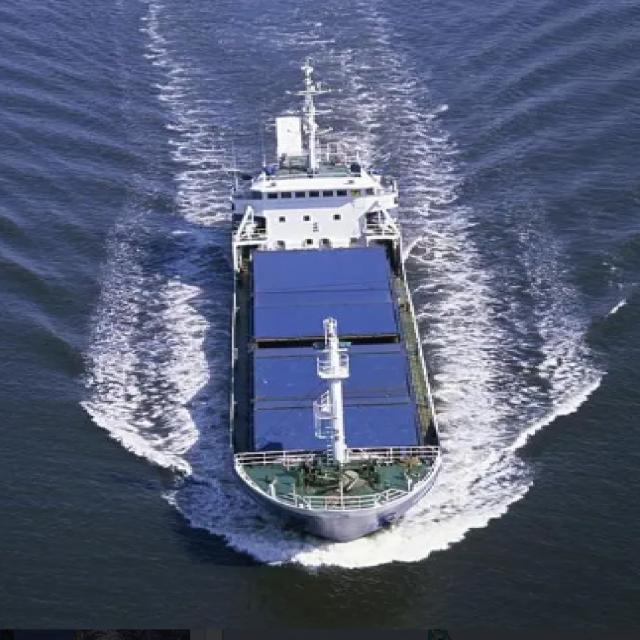cargoship: (217, 100, 466, 526)
